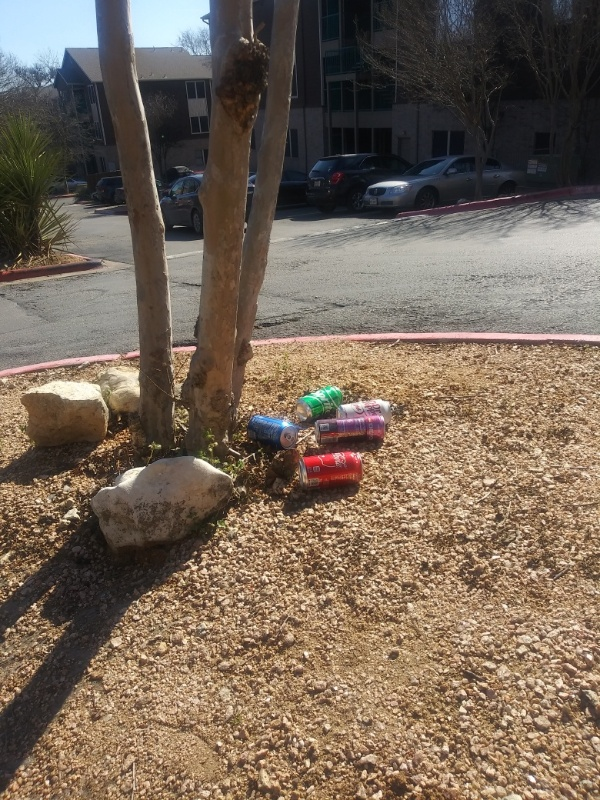can: (296, 450, 368, 496), (309, 414, 391, 451), (241, 406, 305, 453), (294, 381, 347, 430), (334, 396, 398, 435)
